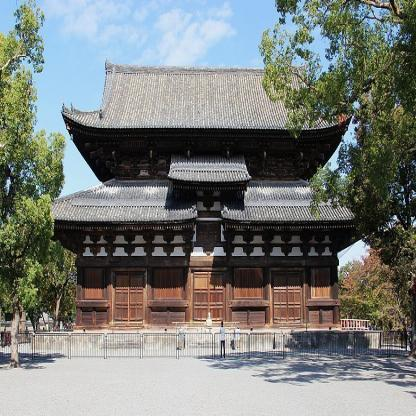Blind: (152, 268, 186, 301), (231, 268, 265, 301), (309, 268, 333, 301), (84, 268, 105, 301)
Building Outline: (24, 58, 398, 332)
Door: (272, 270, 303, 324), (193, 270, 224, 324), (113, 272, 144, 324)
Facade: (105, 79, 307, 329)
Floor Slab: (102, 180, 309, 192)
Ground Floor: (77, 192, 332, 329)
Roof: (24, 154, 398, 223), (61, 58, 355, 139)
Sill: (147, 301, 189, 307), (228, 301, 270, 307), (305, 301, 340, 307), (77, 301, 111, 307)
Top Floor: (101, 100, 309, 181)
Window: (152, 268, 186, 301), (231, 268, 265, 301), (309, 268, 333, 301), (84, 268, 105, 301), (196, 220, 221, 241)
